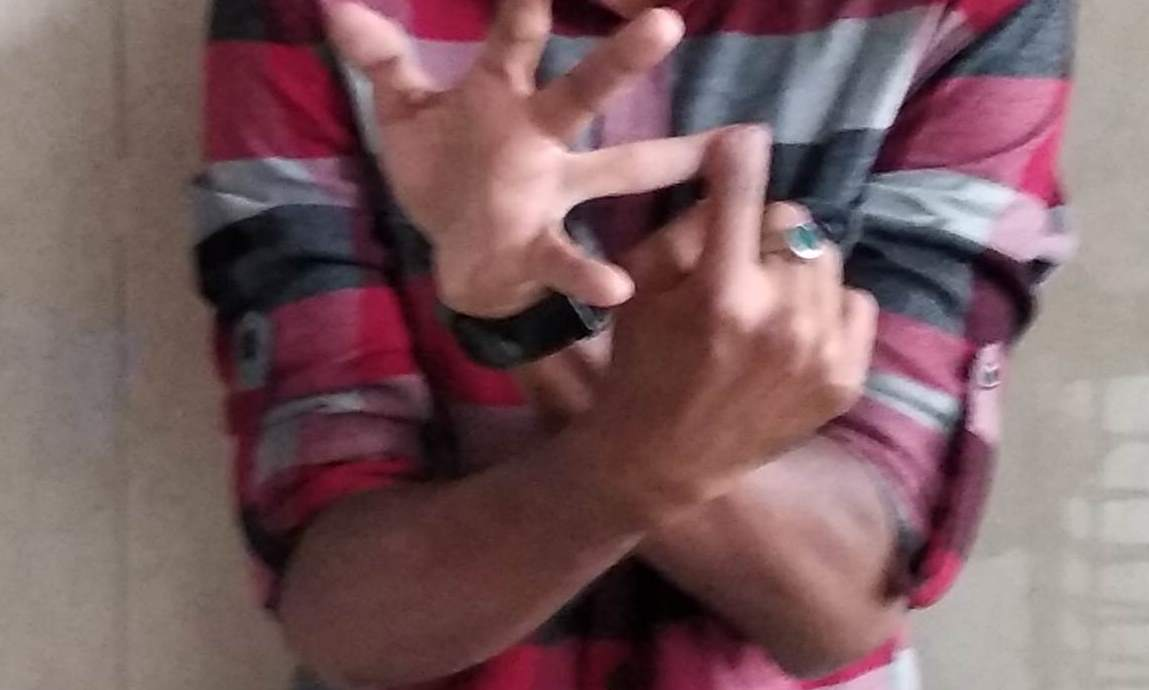e: (501, 11, 870, 359)
